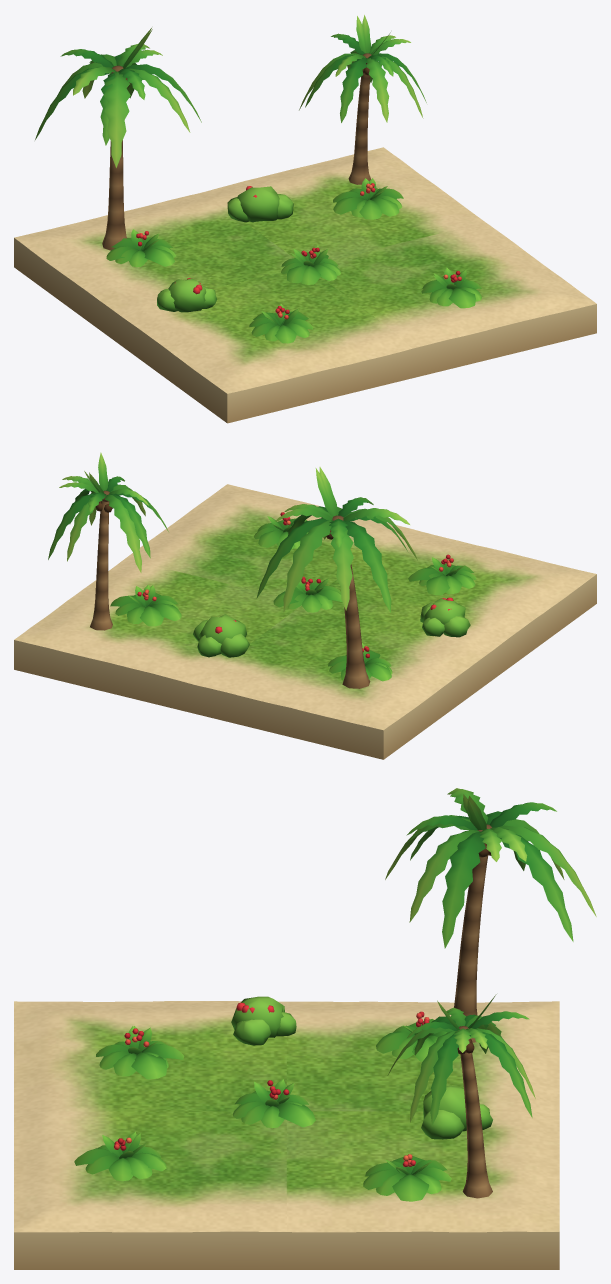
File: Land_Meadow.obj
3 renders of one model, top to bottom at view 1: azimuth 30°, elevation 25°; view 2: azimuth 150°, elevation 25°; view 3: azimuth 270°, elevation 25°, orthographic. The views are drawn at different scales.
Parts seen in each view (by area): view 1: Land_Meadow_Land_Meadow_Terrain, Land_Meadow_Palette; view 2: Land_Meadow_Land_Meadow_Terrain, Land_Meadow_Palette; view 3: Land_Meadow_Land_Meadow_Terrain, Land_Meadow_Palette.
Part boxes in pixels (x1,y1,x2,y2): Land_Meadow_Land_Meadow_Terrain: (14, 147, 596, 393); Land_Meadow_Palette: (14, 15, 596, 423); Land_Meadow_Land_Meadow_Terrain: (14, 484, 596, 730); Land_Meadow_Palette: (14, 452, 596, 759); Land_Meadow_Land_Meadow_Terrain: (14, 1001, 559, 1232); Land_Meadow_Palette: (14, 788, 596, 1269).
Bounding box in the file's own units: 4 × 2.5 × 4.27.
Materials: 2 (2 with a texture image).
